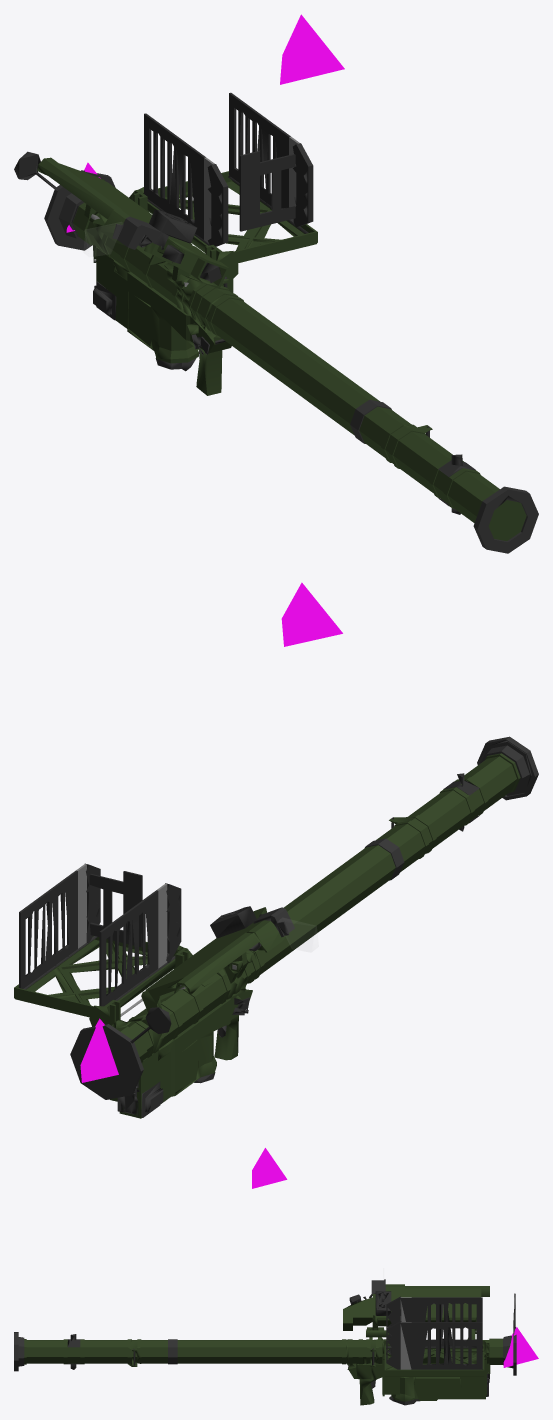
File: prop_stinger.glb
3 views of the same model, one above another, from view 1: azimuth 30°, elevation 25°; view 2: azimuth 150°, elevation 25°; view 3: azimuth 270°, elevation 25° (orthographic). The views are drawn at different scales.
Visible parts, largest first — view 1: Body_2, Body_1, Body_4, _Top, Body_3; view 2: Body_2, Body_1, Body_4, _Top, Body_3, _Front; view 3: Body_2, Body_1, Body_4, _Top, _Front, Body_3.
Part boxes in pixels (x1,y1,x2,y2): Body_2: (37, 157, 526, 541); Body_1: (14, 92, 475, 514); Body_4: (42, 170, 538, 553); _Top: (280, 14, 344, 84); Body_3: (91, 136, 299, 286); Body_2: (14, 753, 520, 1118); Body_1: (19, 773, 479, 1115); Body_4: (70, 736, 538, 1117); _Top: (281, 582, 342, 646); Body_3: (76, 864, 236, 1093); _Front: (80, 1018, 118, 1082); Body_2: (24, 1284, 502, 1405); Body_1: (67, 1291, 515, 1405); Body_4: (14, 1279, 516, 1388); _Top: (252, 1148, 287, 1188); _Front: (503, 1327, 538, 1367); Body_3: (366, 1297, 488, 1378).
Bounding box in the file's own units: 1.09 × 1.92 × 3.55.
11 materials, 10 textured.
